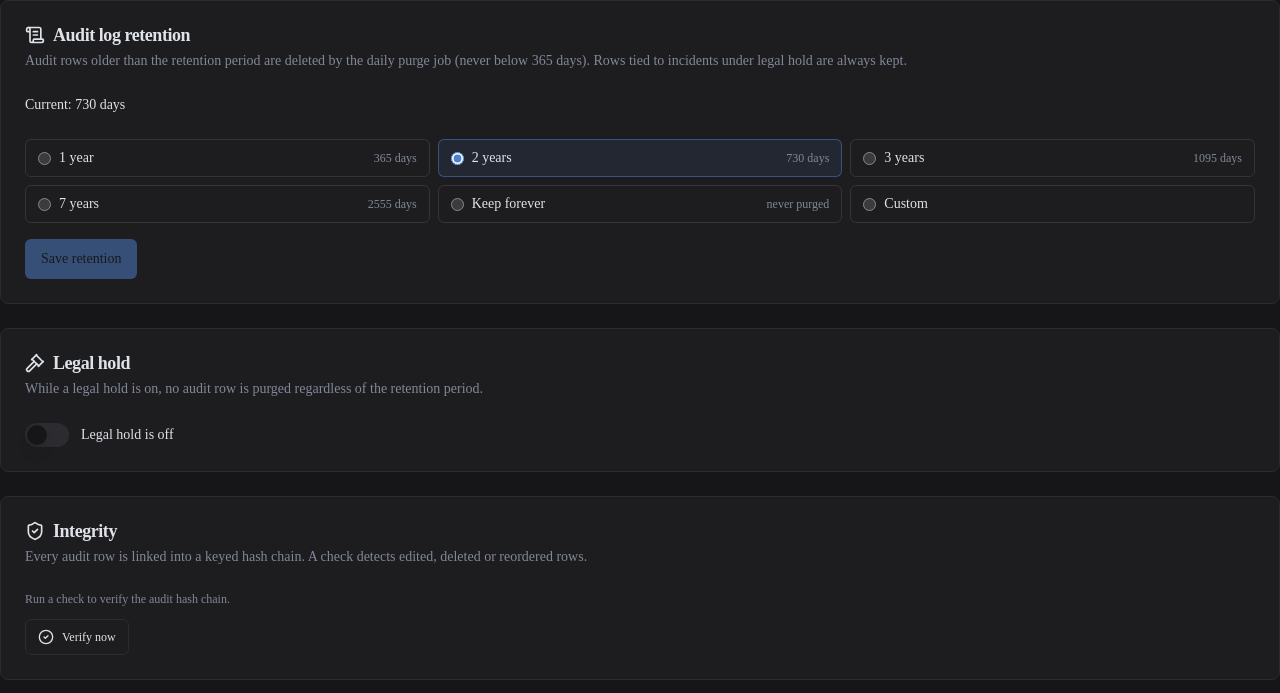
AuditRetentionTab: retention › validates a custom value against the server bounds
Check: the heading "Audit log retention" is shown, box [25,25,190,45]
Step 1. Click the radio button labelled "Custom" → click(870, 204), box [863,198,876,210]
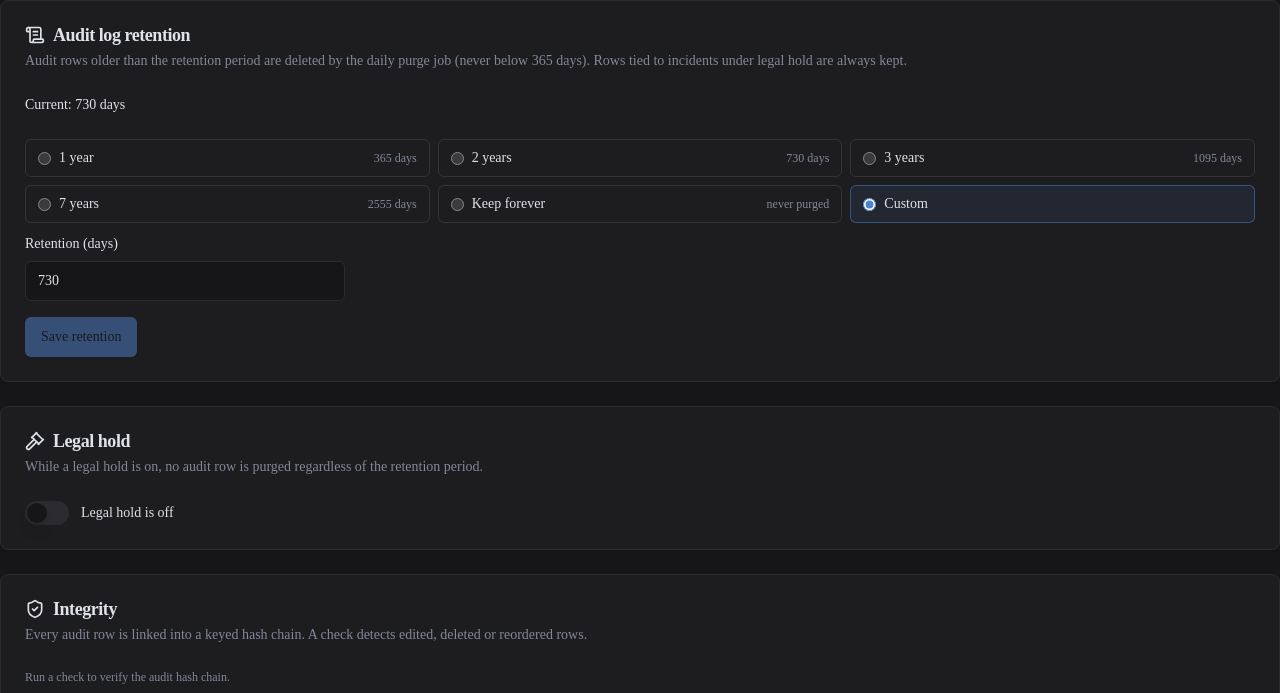
Step 2. Replace the text in the number field labelled "Retention (days)" with "100" → (185, 281), box [25,261,345,301]
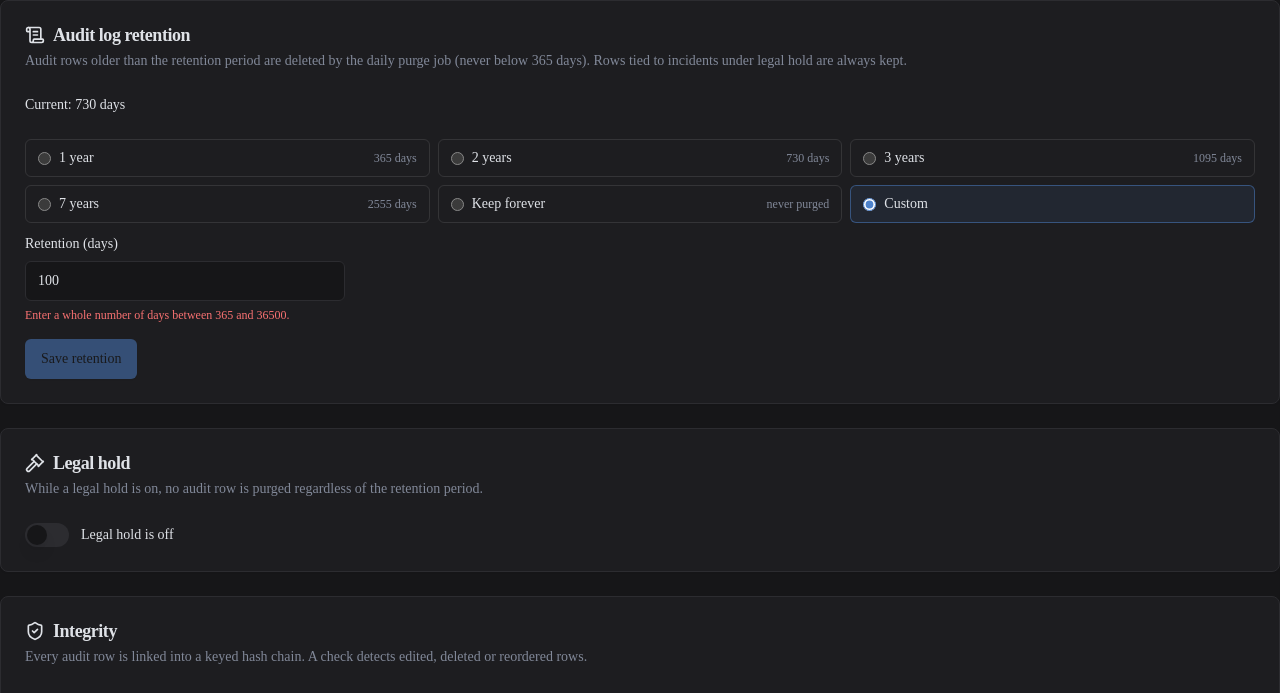
Check: the button "Save retention" is disabled, box [25,339,138,379]
Check: the text "Enter a whole number of days between 365 and 36500." is shown, box [25,308,290,322]
Step 3. Replace the text in the number field labelled "Retention (days)" with "1000" → (185, 281), box [25,261,345,301]
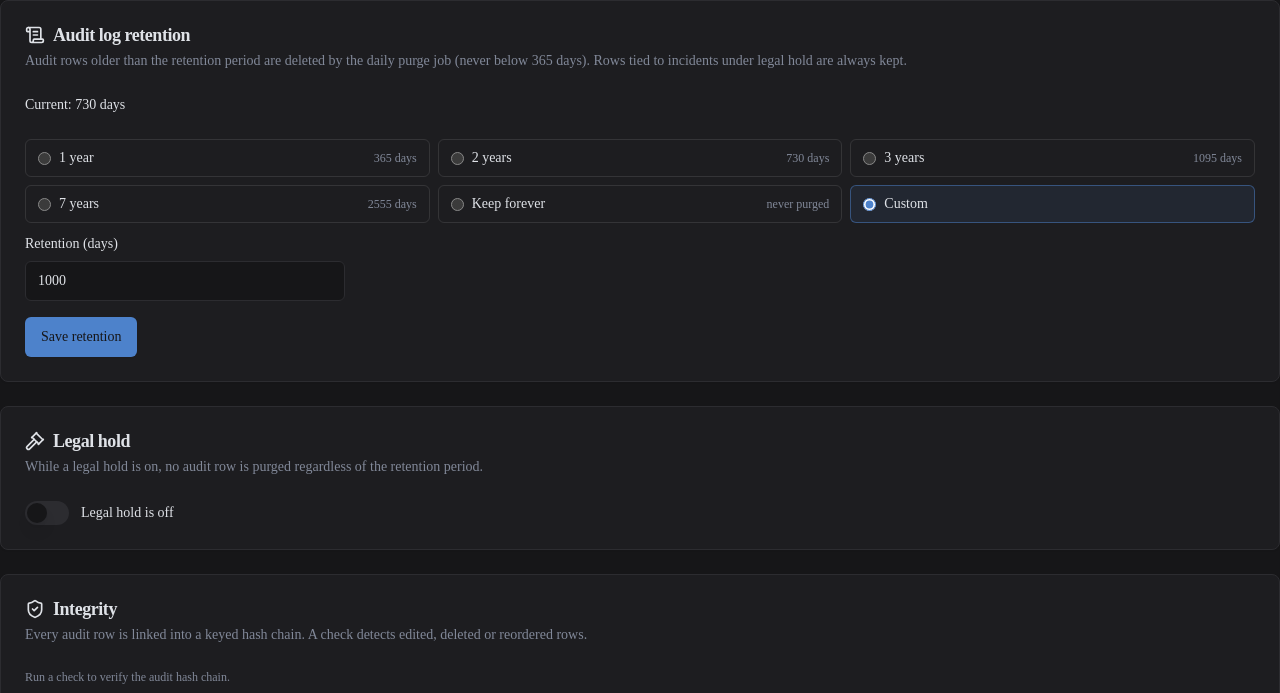
Check: the button "Save retention" is enabled, box [25,317,138,357]
